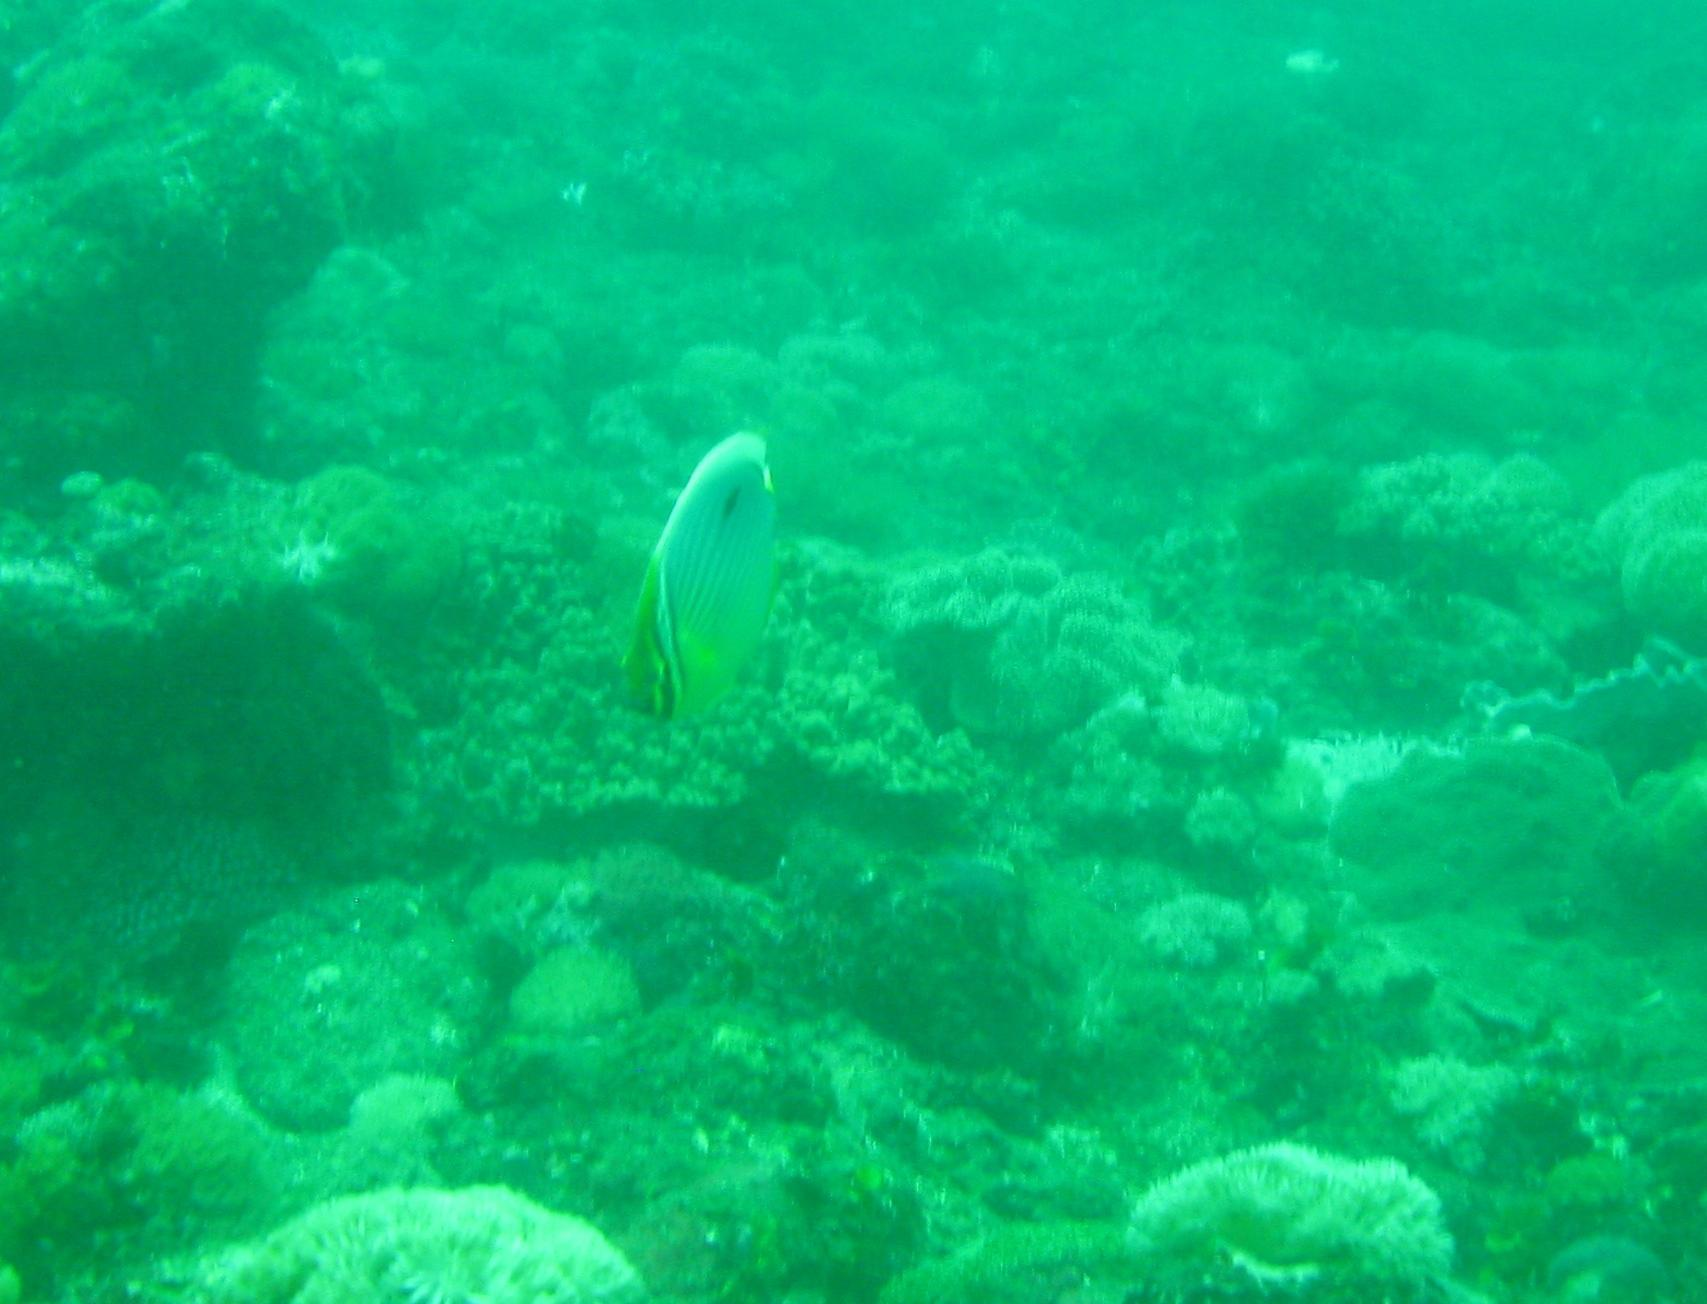Chaetodon trifasciatus: (530, 366, 888, 773)
